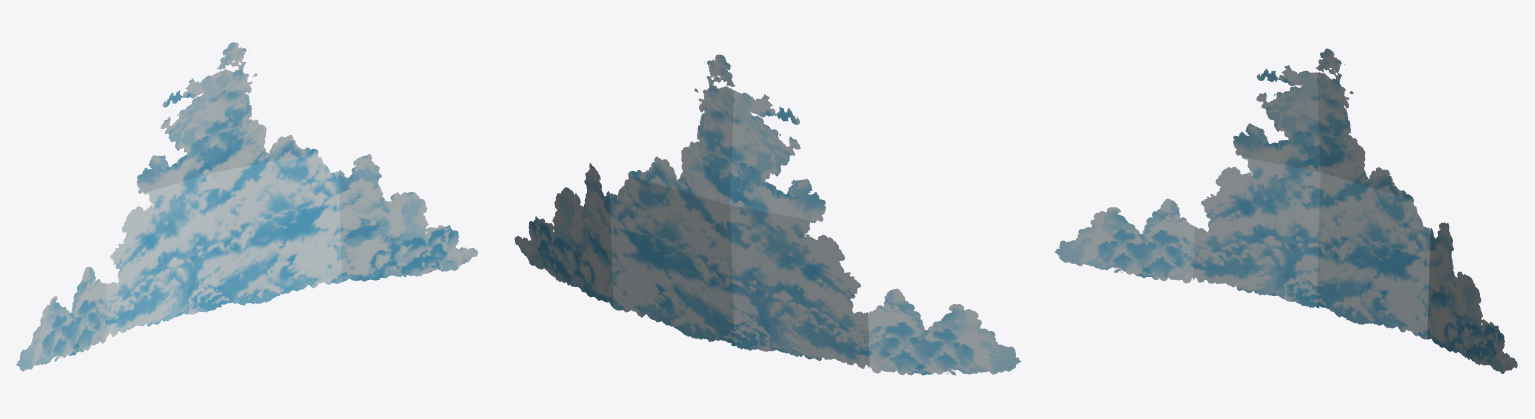
File: SM_CloudCard_Cumulus.fbx
The picture shows the model from 3 angles, left to right: view 1: azimuth 30°, elevation 25°; view 2: azimuth 150°, elevation 25°; view 3: azimuth 330°, elevation 25°; orthographic projection. The views are drawn at different scales.
Parts seen in each view (by area): view 1: SM_CloudCard_Cumulus; view 2: SM_CloudCard_Cumulus; view 3: SM_CloudCard_Cumulus.
Part boxes in pixels (bbox=[...]): SM_CloudCard_Cumulus: bbox=[16, 42, 477, 371]; SM_CloudCard_Cumulus: bbox=[514, 54, 1020, 375]; SM_CloudCard_Cumulus: bbox=[1054, 48, 1517, 373].
Bounding box in the file's own units: 200 × 118 × 25.29.
